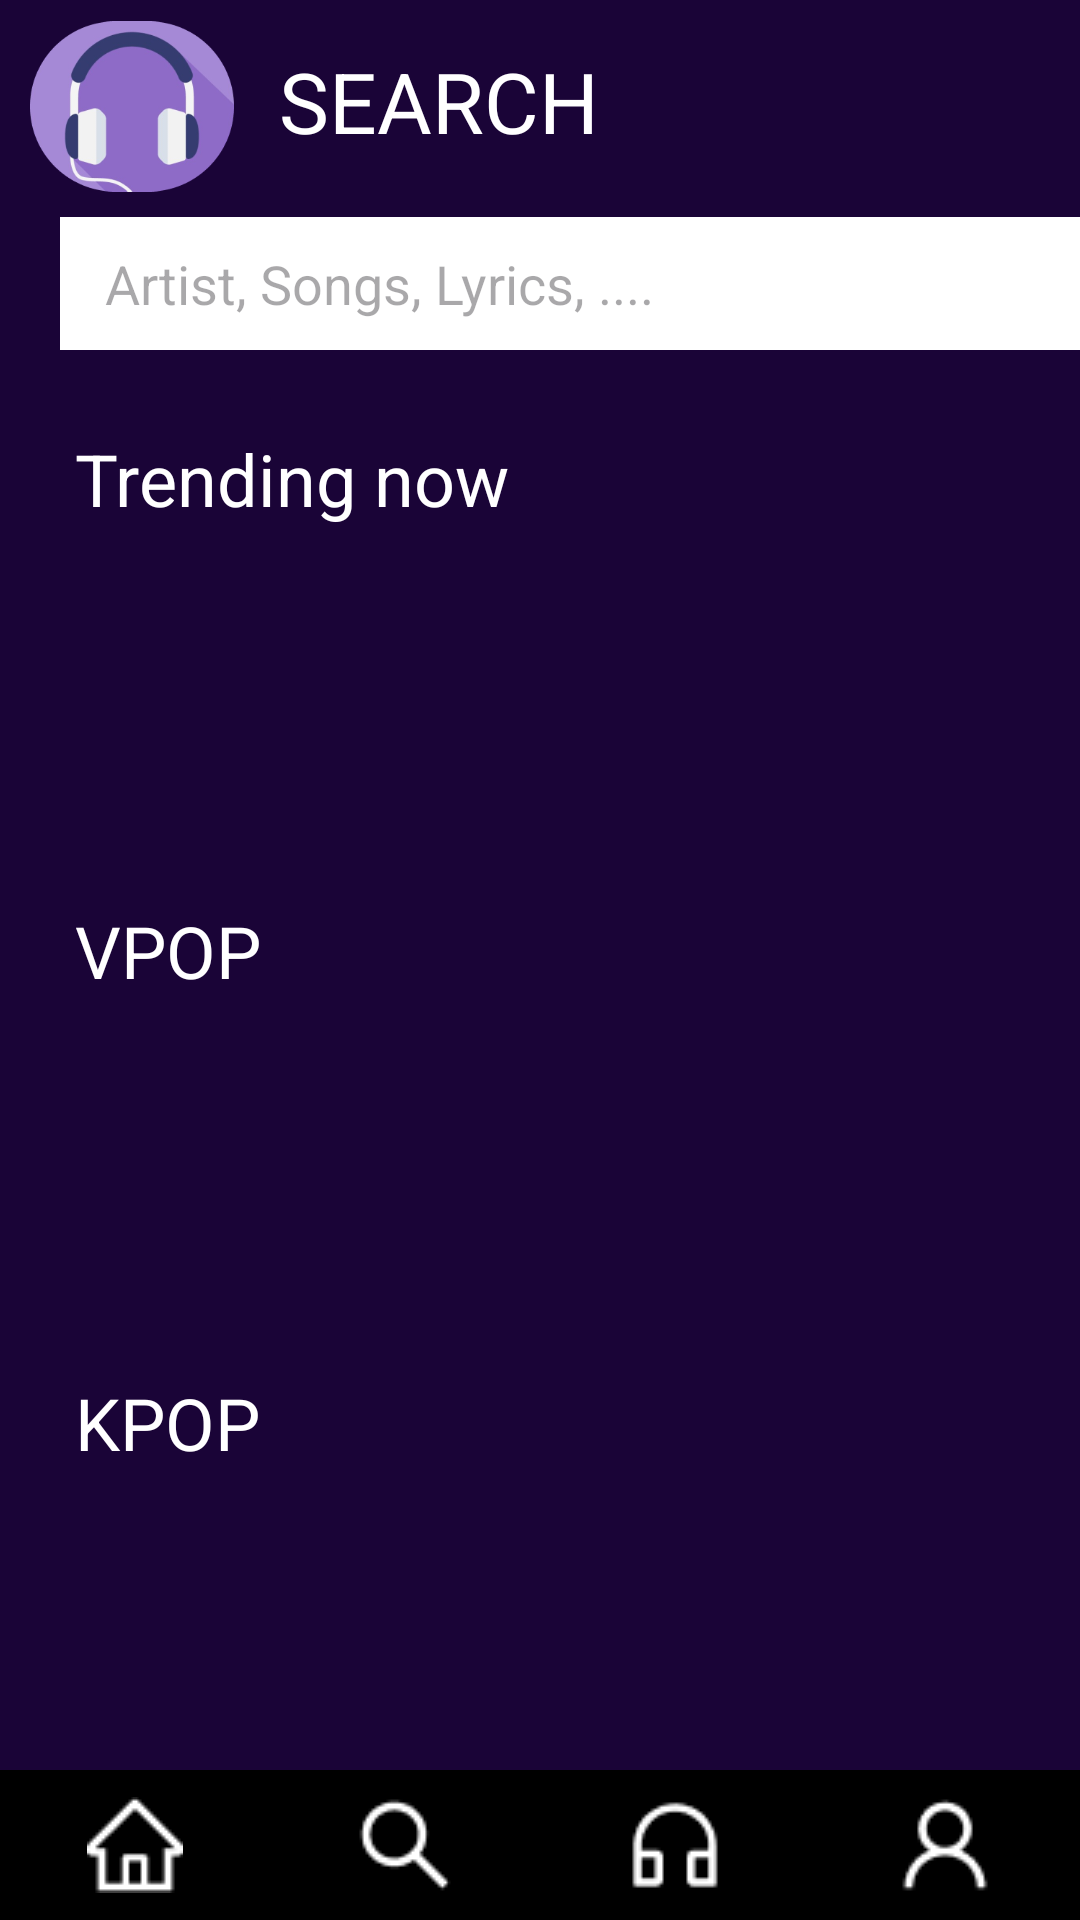

Icons on this 1080×1920 Android screen, each with its box as (x1, y1, x2, y2):
accounticon: (902, 1800, 988, 1890)
headphoneimgbtn: (632, 1802, 718, 1888)
homebtnimg: (87, 1797, 183, 1893)
searchimgbtn: (360, 1800, 449, 1890)
